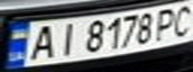1: (103, 15, 124, 51)
7: (118, 11, 142, 47)
8: (133, 9, 160, 45), (81, 17, 106, 53)
A: (24, 21, 60, 61)
C: (169, 1, 193, 37)
I: (51, 20, 81, 57)
P: (151, 6, 184, 42)
